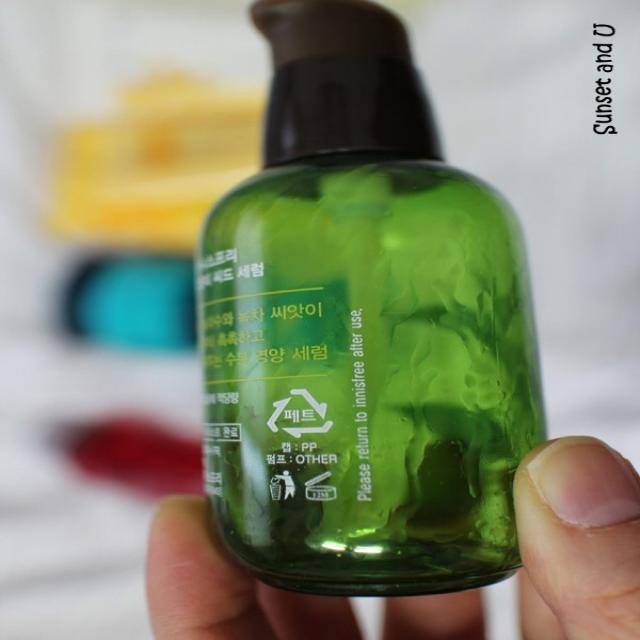PET: (264, 387, 338, 442)
